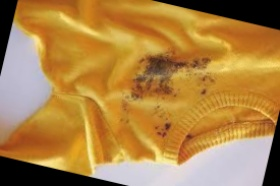earth: (131, 52, 181, 102), (154, 120, 170, 139), (191, 55, 211, 70), (199, 74, 211, 96)
